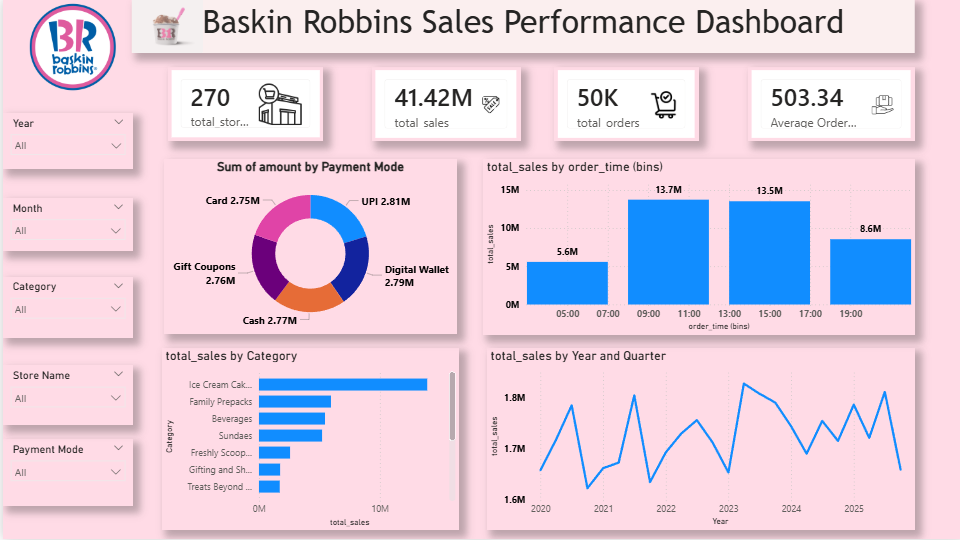

The dashboard page shown, as its layout file describes it:
{"tool":"powerbi","page":{"name":"Final","canvas":[1280,720],"ordinal":3},"visuals":[{"type":"textbox","box":[172,0,1044,72],"z":0},{"type":"cardVisual","fields":{"Data":["Baskin_Robins.total_stores"]},"box":[220.6,89.7,207.4,100],"z":1000},{"type":"cardVisual","fields":{"Data":["Baskin_Robins.total_sales"]},"box":[491.4,90,198.6,100],"z":2000},{"type":"cardVisual","fields":{"Data":["Baskin_Robins.total_orders"]},"box":[735.7,90,192.9,100],"z":3000},{"type":"columnChart","fields":{"Category":["Baskin_Robins.order_time (bins)"],"Y":["Baskin_Robins.total_sales"]},"box":[640,214,576,234],"z":4000},{"type":"donutChart","fields":{"Category":["Baskin_Robins.Payment Mode"],"Y":["Sum(Baskin_Robins.amount)"]},"box":[215,213.3,390,233.3],"z":5000},{"type":"lineChart","fields":{"Category":["Baskin_Robins.Date.Variation.Date Hierarchy.Year","Baskin_Robins.Date.Variation.Date Hierarchy.Quarter","Baskin_Robins.Date.Variation.Date Hierarchy.Month","Baskin_Robins.Date.Variation.Date Hierarchy.Day"],"Y":["Baskin_Robins.total_sales"]},"box":[644.3,465.7,570,242.9],"z":6000},{"type":"cardVisual","fields":{"Data":["Baskin_Robins.Average Order Value"]},"box":[994,90,222,100],"z":7000},{"type":"slicer","fields":{"Values":["Baskin_Robins.Bill_date.Variation.Date Hierarchy.Year"]},"box":[0,152.2,173.3,75.6],"z":8000},{"type":"slicer","fields":{"Values":["Baskin_Robins.Bill_date.Variation.Date Hierarchy.Month"]},"box":[0,265.7,172.9,71.4],"z":9000},{"type":"slicer","fields":{"Values":["Baskin_Robins.Category"]},"box":[0,370,172.9,81.4],"z":10000},{"type":"slicer","fields":{"Values":["Stores.Store Name"]},"box":[0,488.6,172.9,80],"z":11000},{"type":"slicer","fields":{"Values":["Baskin_Robins.Payment Mode"]},"box":[0,587.1,172.9,88.6],"z":12000},{"type":"barChart","fields":{"Category":["Baskin_Robins.Category"],"Y":["Baskin_Robins.total_sales"]},"box":[211.7,465,396.7,243.3],"z":13000},{"type":"image","box":[0,0,185.6,127.8],"z":14000},{"type":"image","box":[172.3,0,95.4,72.3],"z":15000}]}

Visuals, with their boxes in screenshot pixels (x1, y1, x2, y2), scaled from the page's 1280x720 canvas onto the 960x540 screenshot:
textbox: [x1=129, y1=0, x2=912, y2=54]
cardVisual - Baskin_Robins.total_stores: [x1=165, y1=67, x2=321, y2=142]
cardVisual - Baskin_Robins.total_sales: [x1=369, y1=68, x2=518, y2=142]
cardVisual - Baskin_Robins.total_orders: [x1=552, y1=68, x2=696, y2=142]
columnChart - Baskin_Robins.order_time (bins) x Baskin_Robins.total_sales: [x1=480, y1=160, x2=912, y2=336]
donutChart - Baskin_Robins.Payment Mode x Sum(Baskin_Robins.amount): [x1=161, y1=160, x2=454, y2=335]
lineChart - Baskin_Robins.Date.Variation.Date Hierarchy.Year x Baskin_Robins.Date.Variation.Date Hierarchy.Quarter: [x1=483, y1=349, x2=911, y2=531]
cardVisual - Baskin_Robins.Average Order Value: [x1=746, y1=68, x2=912, y2=142]
slicer - Baskin_Robins.Bill_date.Variation.Date Hierarchy.Year: [x1=0, y1=114, x2=130, y2=171]
slicer - Baskin_Robins.Bill_date.Variation.Date Hierarchy.Month: [x1=0, y1=199, x2=130, y2=253]
slicer - Baskin_Robins.Category: [x1=0, y1=278, x2=130, y2=339]
slicer - Stores.Store Name: [x1=0, y1=366, x2=130, y2=426]
slicer - Baskin_Robins.Payment Mode: [x1=0, y1=440, x2=130, y2=507]
barChart - Baskin_Robins.Category x Baskin_Robins.total_sales: [x1=159, y1=349, x2=456, y2=531]
image: [x1=0, y1=0, x2=139, y2=96]
image: [x1=129, y1=0, x2=201, y2=54]
